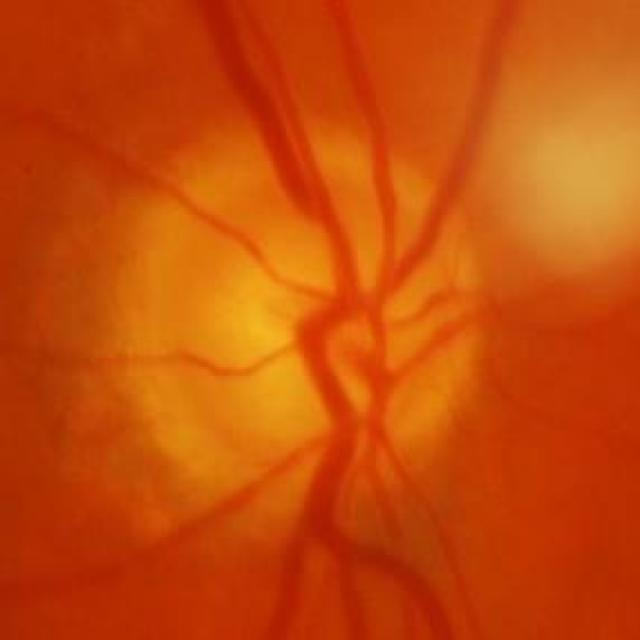OC: (216, 232, 395, 442)
OD: (122, 124, 483, 543)
